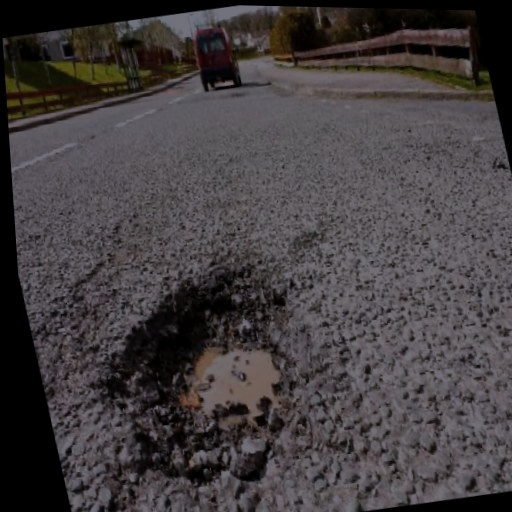pothole: (80, 249, 343, 511)
